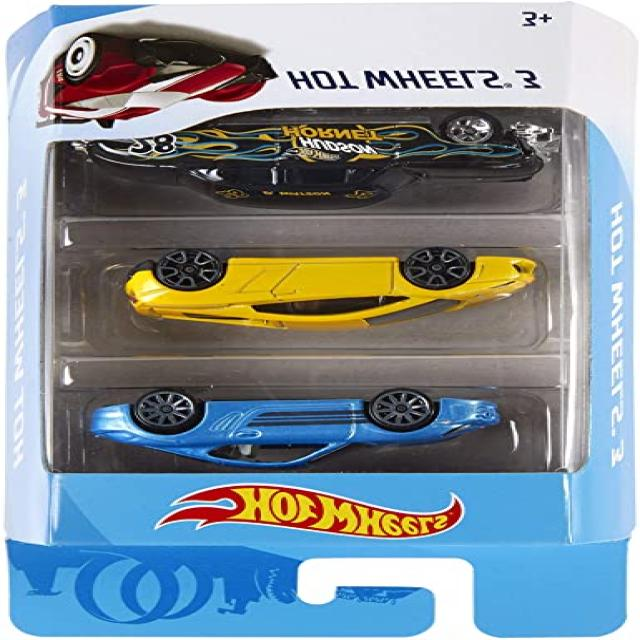Car: (85, 108, 547, 211), (123, 247, 537, 333), (88, 388, 500, 470), (36, 33, 278, 130)
